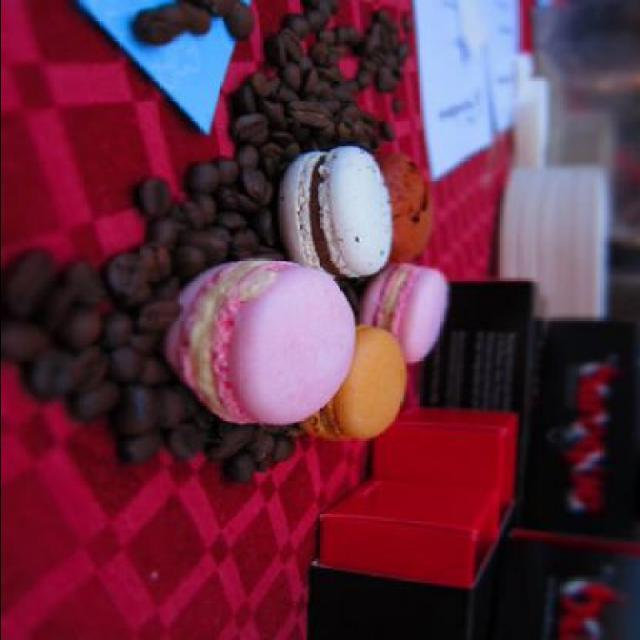Macaron: (146, 144, 457, 440)
